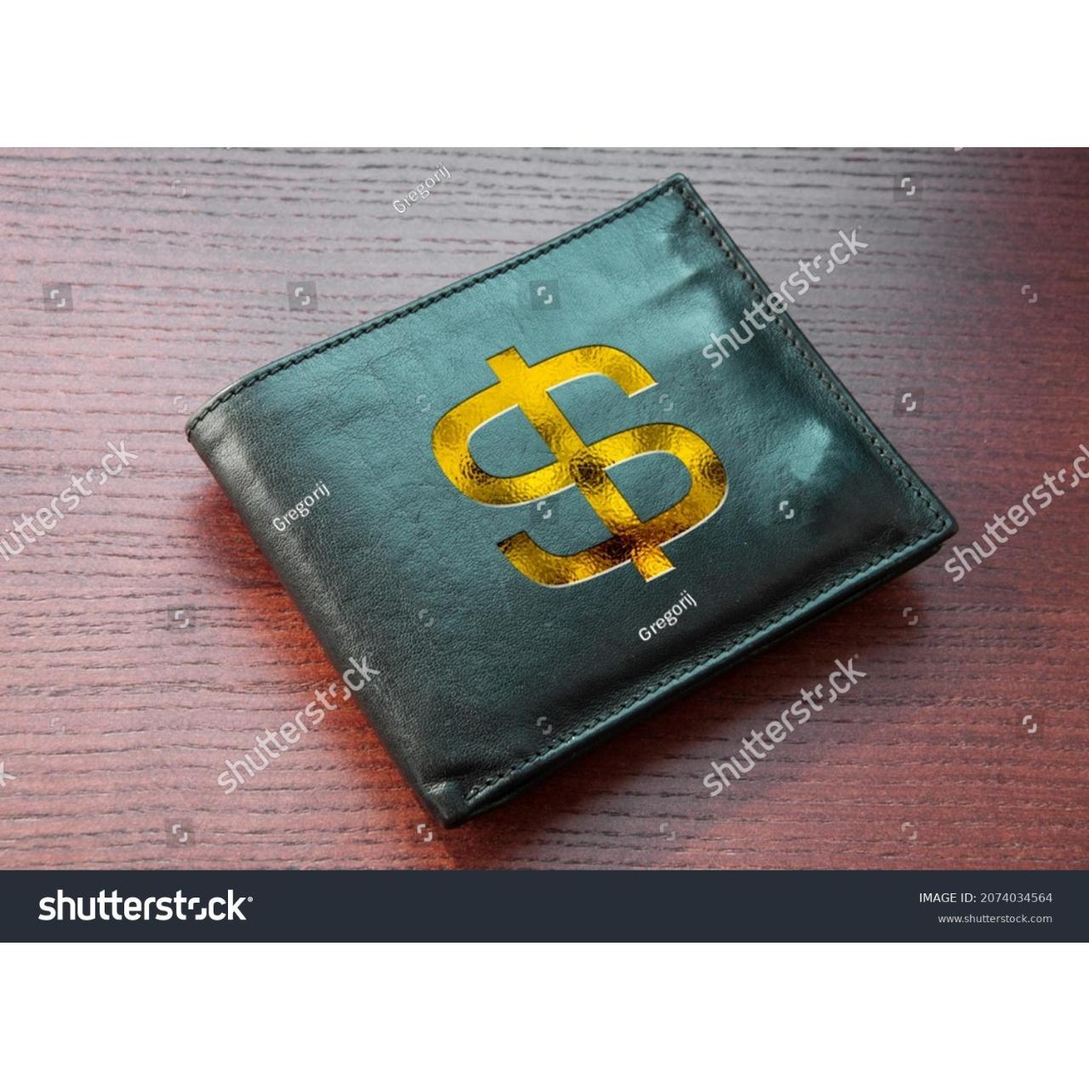wallet: (211, 169, 954, 803)
